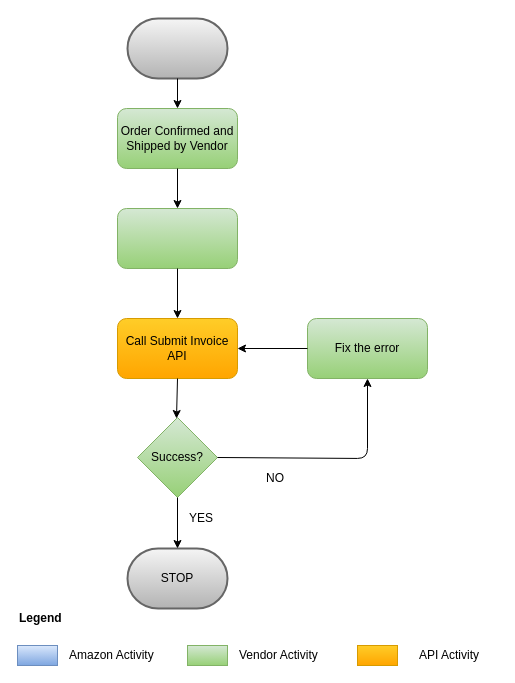
The diagram is 515 pixels wide and 683 high, and some of its shapes have lost their labels. The centre of each missing label's shape, as x and y in pixels:
"Generate Invoice" belongs at (x=177, y=238).
"START" belongs at (x=177, y=48).
